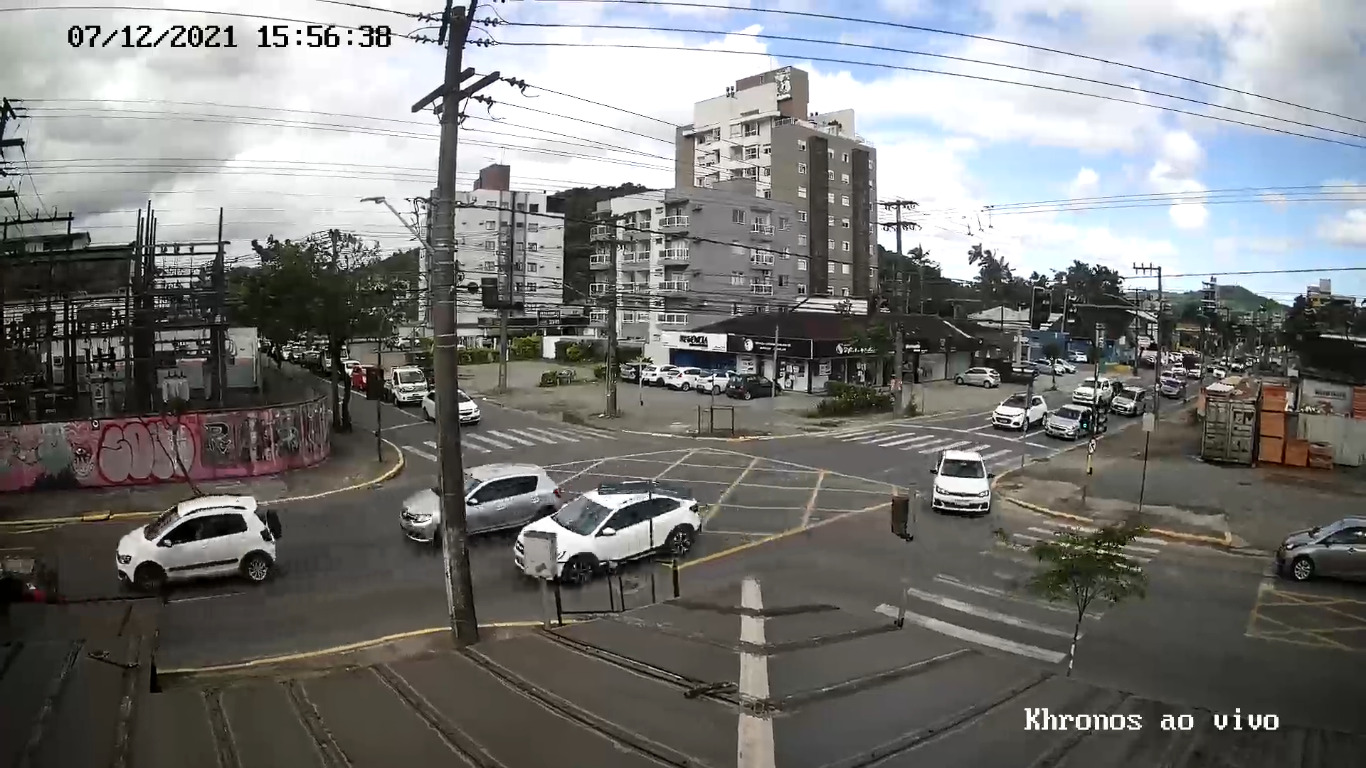car: (513, 485, 702, 589), (116, 494, 282, 595), (400, 464, 561, 548)
